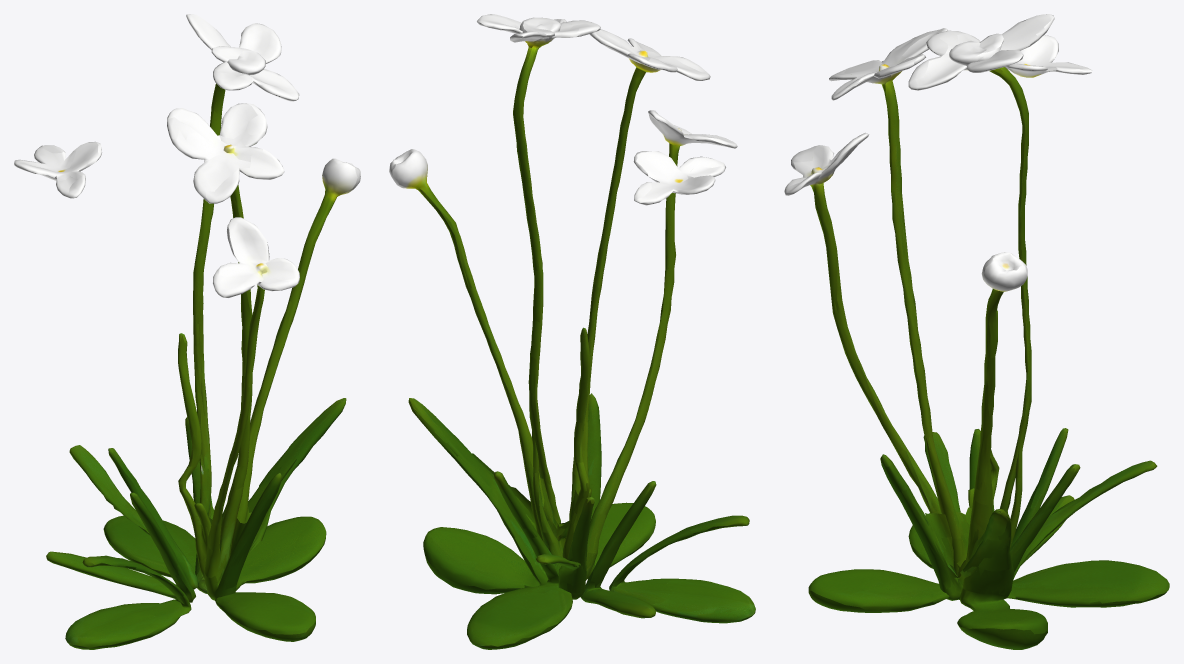
Rendered from ground_wildflower_clump.glb.
3 views of the same model, side by side, from view 1: azimuth 30°, elevation 25°; view 2: azimuth 150°, elevation 25°; view 3: azimuth 270°, elevation 25° (orthographic). The views are drawn at different scales.
Bounding box in the file's own units: 1.16 × 1.91 × 1.12.
Materials: 1 (1 with a texture image).
